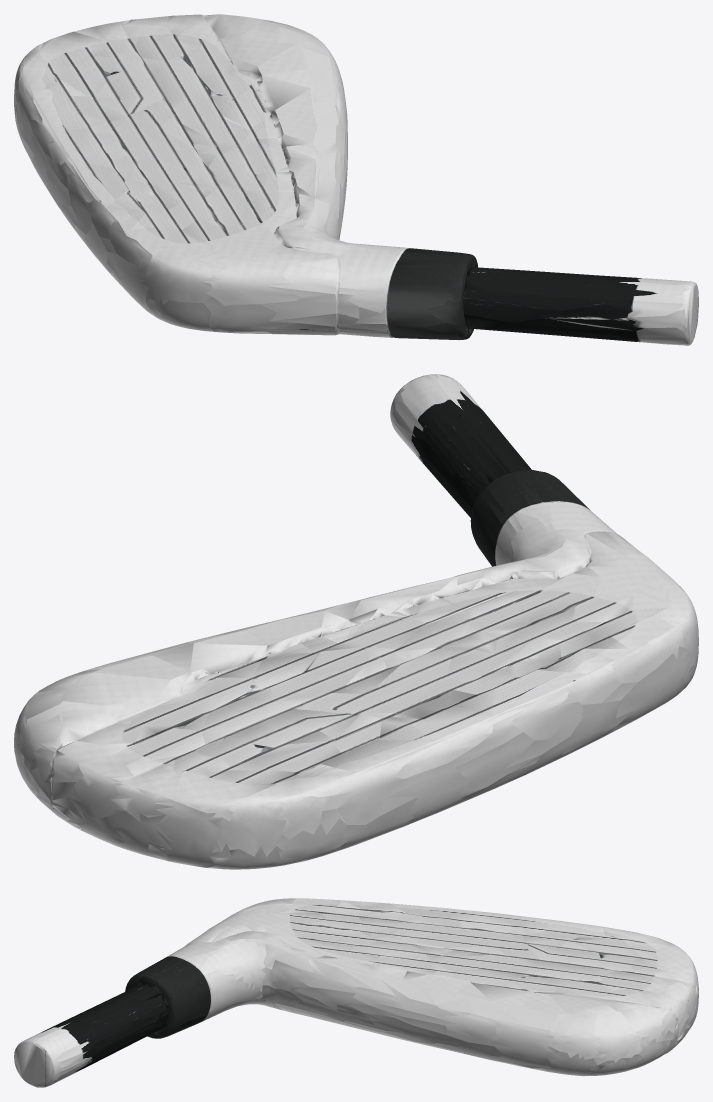
The model's file is club-iron.glb.
3 views of the same model, one above another, from view 1: azimuth 30°, elevation 25°; view 2: azimuth 150°, elevation 25°; view 3: azimuth 270°, elevation 25° (orthographic). The views are drawn at different scales.
Visible parts, largest first — view 1: club-iron; view 2: club-iron; view 3: club-iron.
Part boxes in pixels (x1,y1,x2,y2): club-iron: (14, 14, 698, 345); club-iron: (14, 374, 698, 869); club-iron: (14, 898, 698, 1087).
Size of the model in its own units: 0.4915 by 0.0956 by 0.9212.
Materials: 1 (1 with a texture image).
